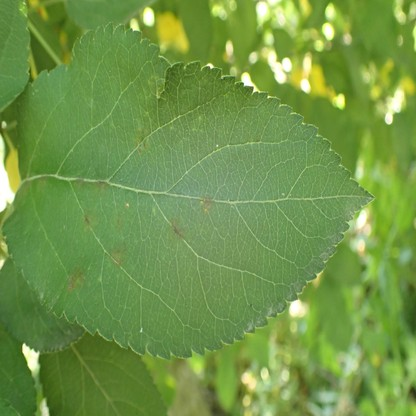scab: (164, 217, 187, 246), (110, 239, 128, 268), (132, 128, 151, 152), (81, 207, 97, 232), (67, 270, 84, 290), (72, 178, 108, 187), (199, 193, 213, 213), (111, 211, 123, 230)
